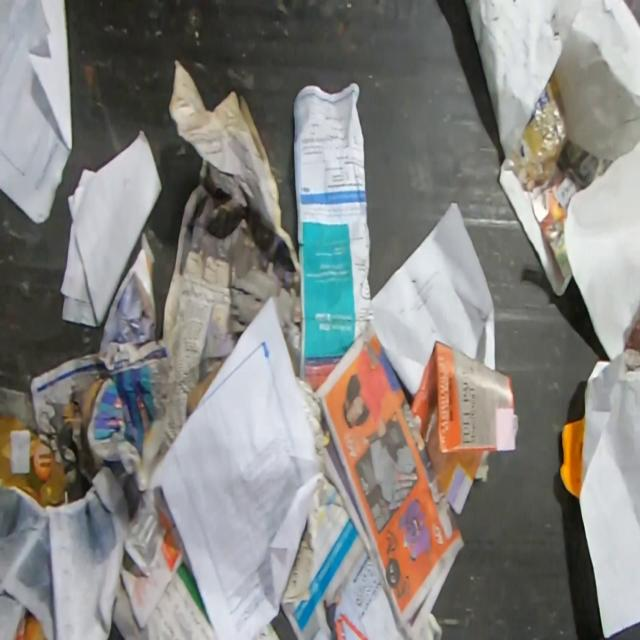cardboard: (186, 351, 232, 416)
soft_plastic: (0, 417, 68, 506), (16, 607, 46, 639)
